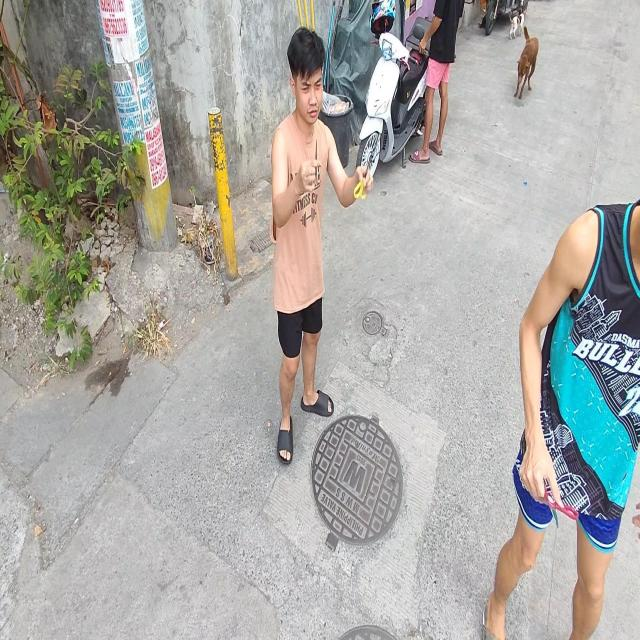scissor: (537, 481, 578, 529), (354, 154, 372, 198)
